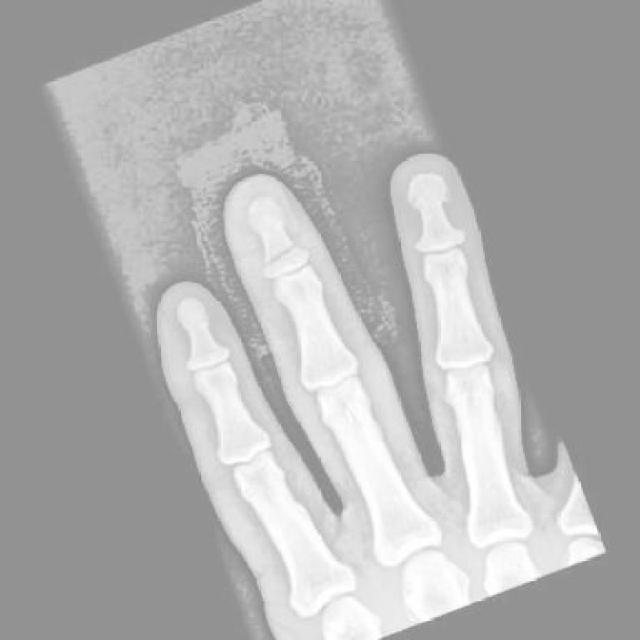Fracture: (257, 235, 308, 280)
